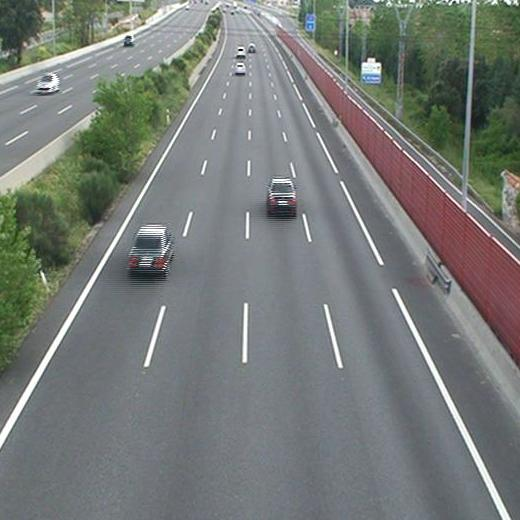car: (129, 227, 171, 271), (268, 179, 296, 209), (234, 63, 245, 74), (235, 47, 245, 58), (247, 43, 255, 52)
